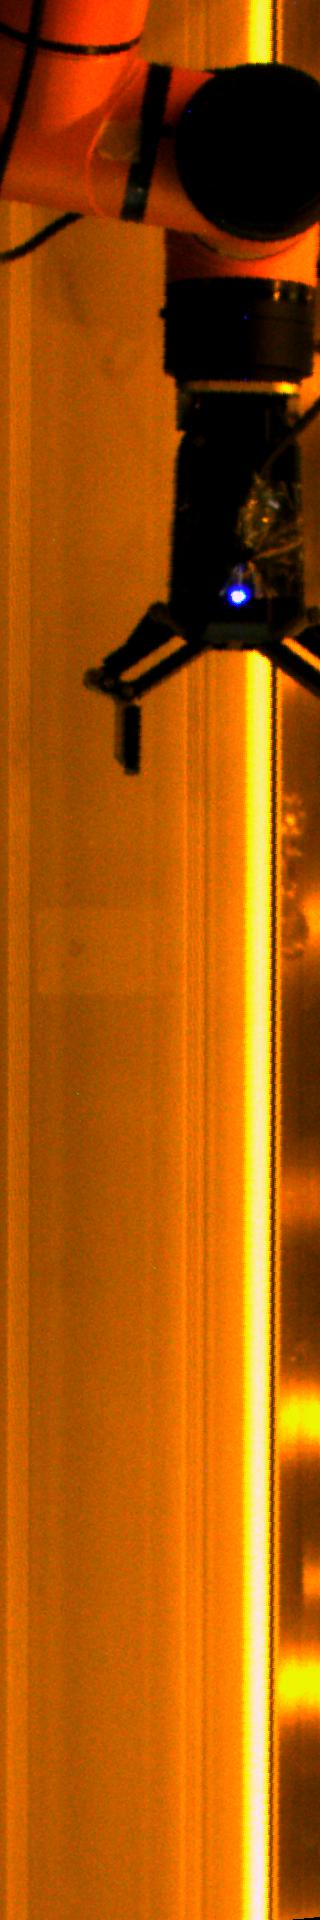keyPoint_1: (224, 580, 254, 611)
